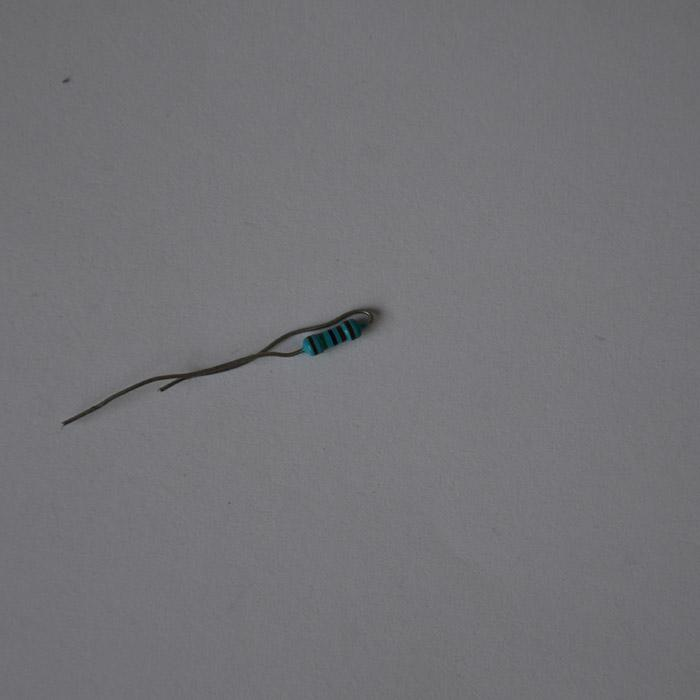resistor: (301, 317, 367, 356)
